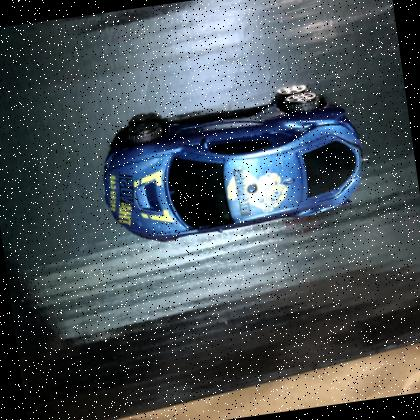Car: (103, 92, 364, 241)
